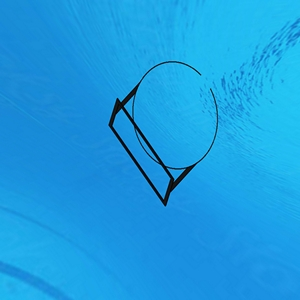circle: (106, 59, 220, 209)
